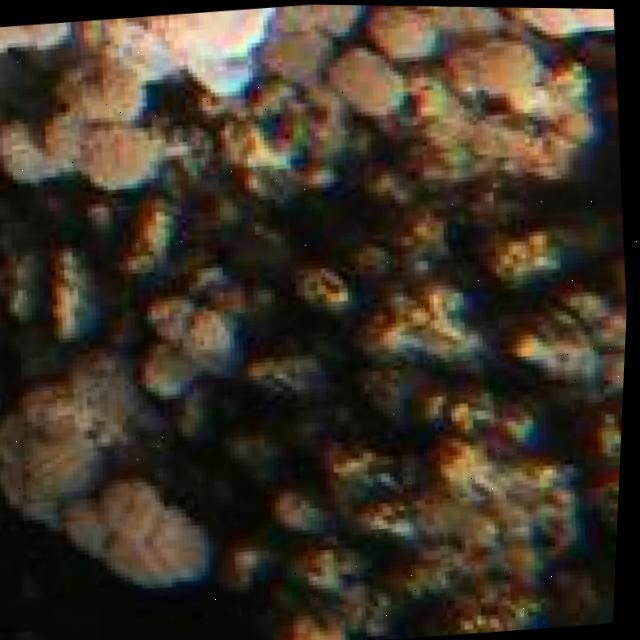Dead Coral: (202, 202, 640, 640)
